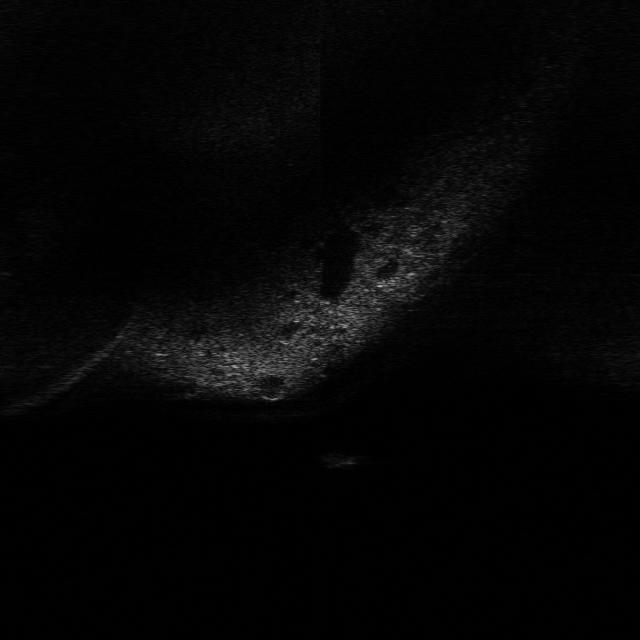cube: (313, 447, 369, 471)
